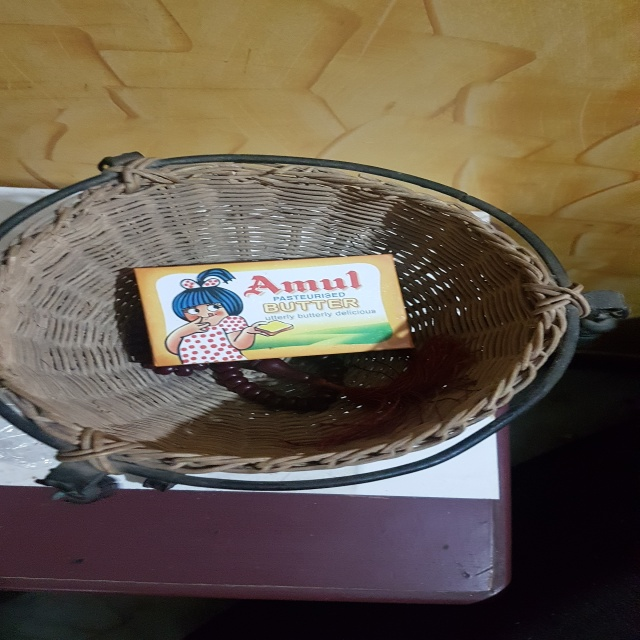butter: (126, 250, 426, 369)
